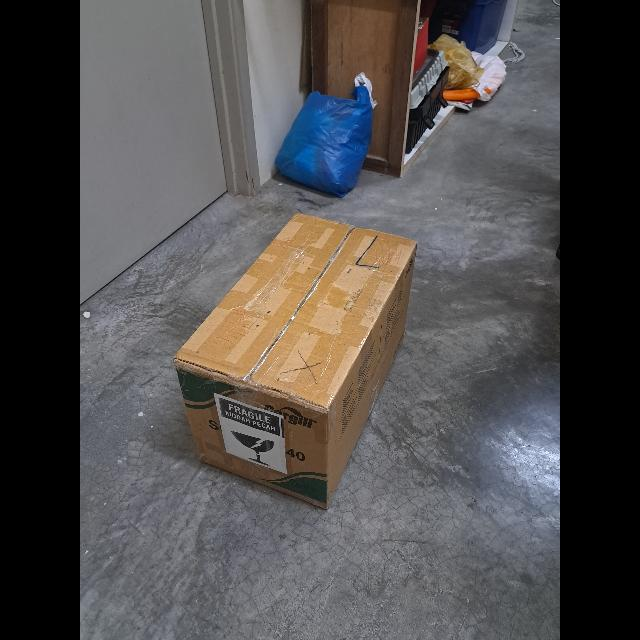papelão: (175, 212, 417, 508)
